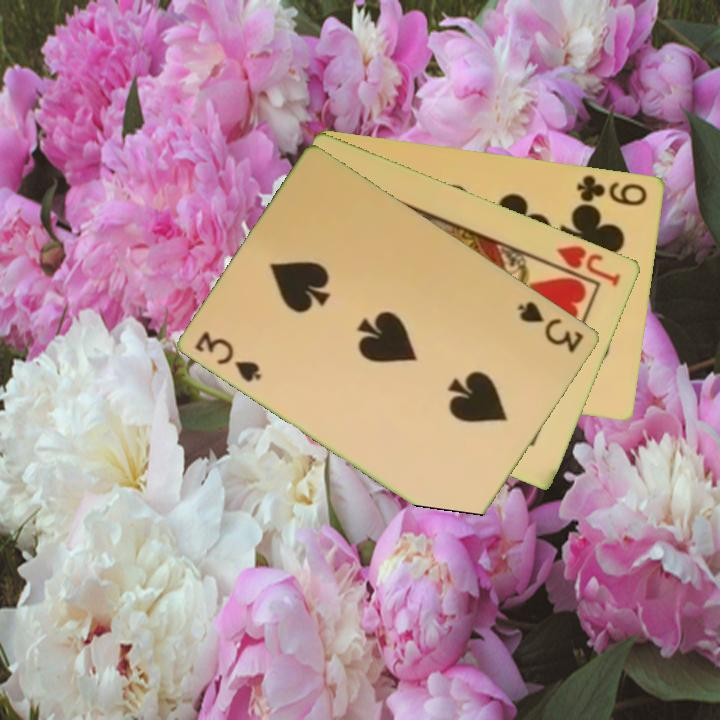3s: (514, 297, 588, 356), (191, 327, 265, 385)
9c: (573, 171, 650, 209)
Jh: (553, 241, 624, 289)
